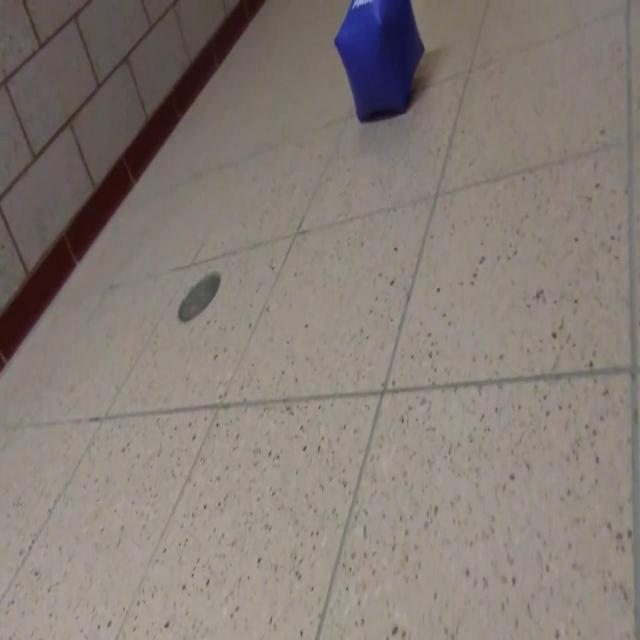frc_cube: (334, 0, 424, 124)
